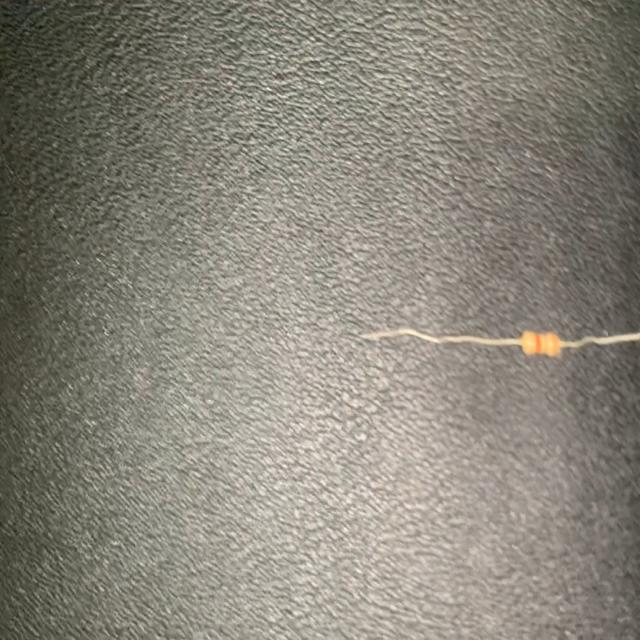resistor: (357, 324, 640, 359)
